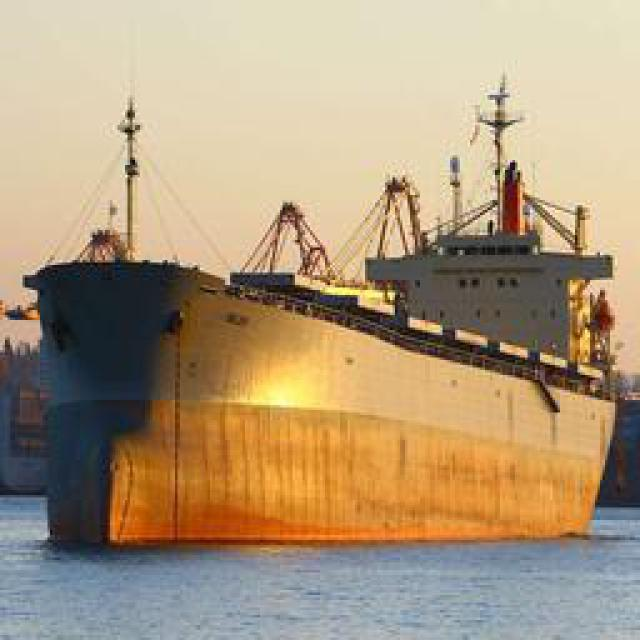Ship: (25, 102, 622, 565)
